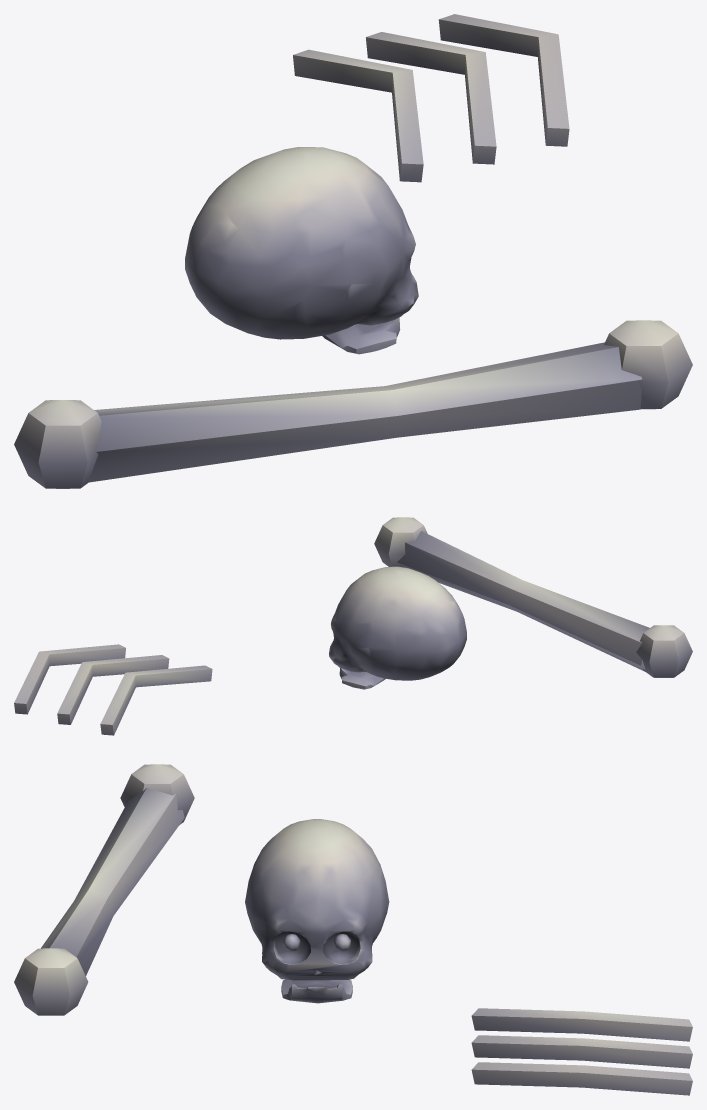
The model's file is bones.glb.
The picture shows the model from 3 angles, top to bottom: view 1: azimuth 30°, elevation 25°; view 2: azimuth 150°, elevation 25°; view 3: azimuth 270°, elevation 25°; orthographic projection. The views are drawn at different scales.
Visible parts, largest first — view 1: bones; view 2: bones; view 3: bones.
Boxes of the visible parts, x1,y1,x2,y2 form: bones: [14, 14, 692, 488]; bones: [14, 517, 692, 735]; bones: [14, 764, 692, 1095].
Size of the model in its own units: 1.34 by 0.3142 by 1.28.
